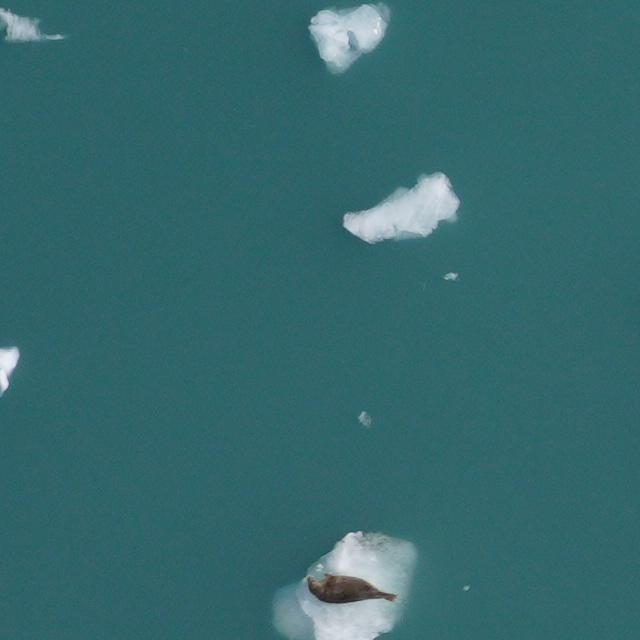seal: (310, 572, 395, 603)
